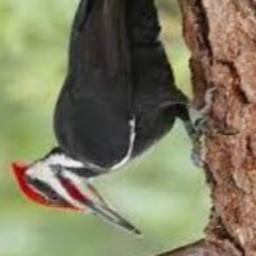Woodpecker: (11, 0, 229, 237)
